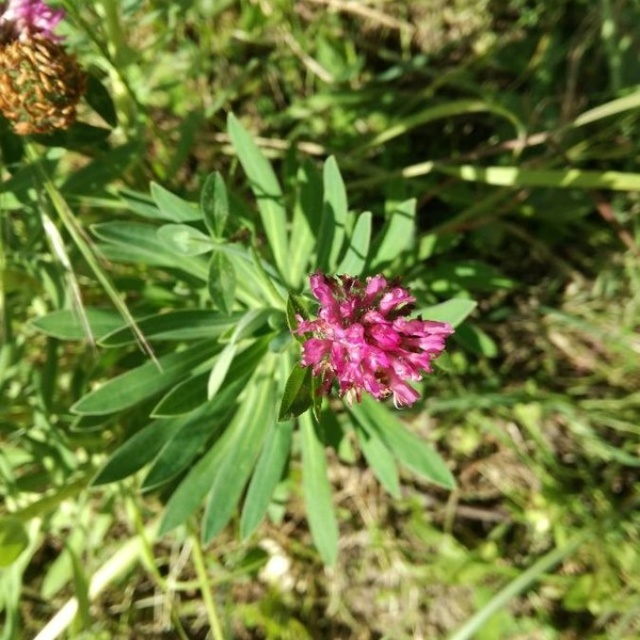obstacle: (75, 132, 480, 516)
